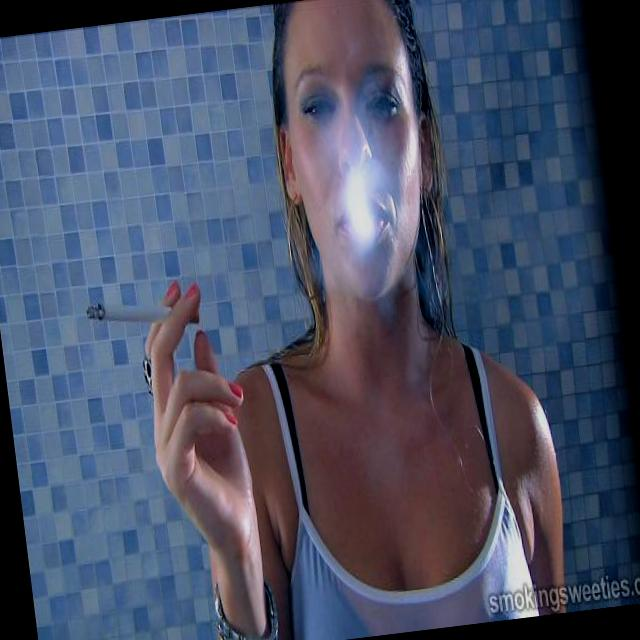cigarette: (51, 263, 212, 384)
